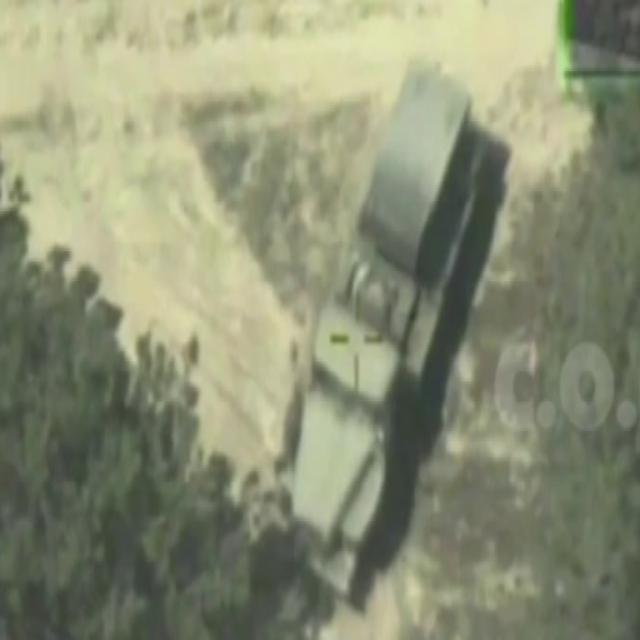MLRS: (268, 53, 490, 587)
